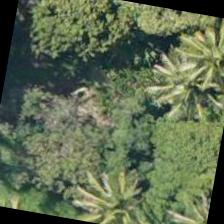Kelapa_Sawit: (138, 32, 223, 136), (65, 159, 165, 223), (178, 12, 223, 100)
